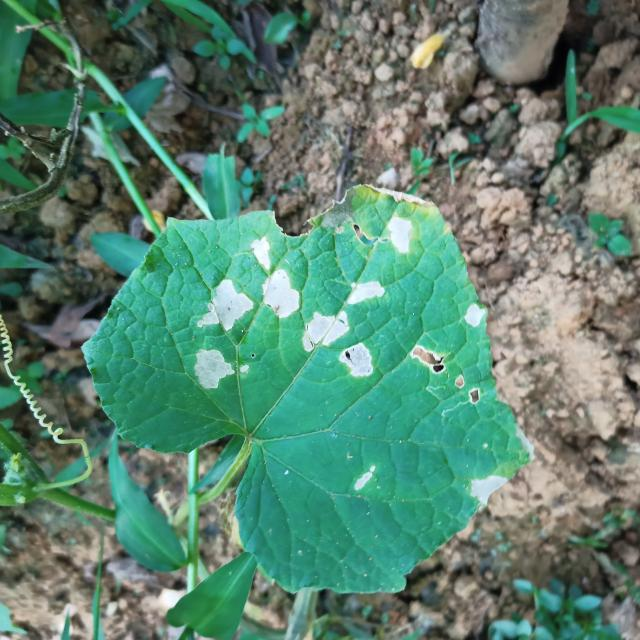disease_cucumber: (304, 310, 374, 378), (411, 344, 480, 409), (249, 236, 300, 318), (197, 280, 253, 332), (194, 348, 249, 390), (469, 473, 508, 506), (386, 213, 414, 256), (346, 282, 386, 305), (350, 464, 378, 495), (462, 302, 486, 330)
